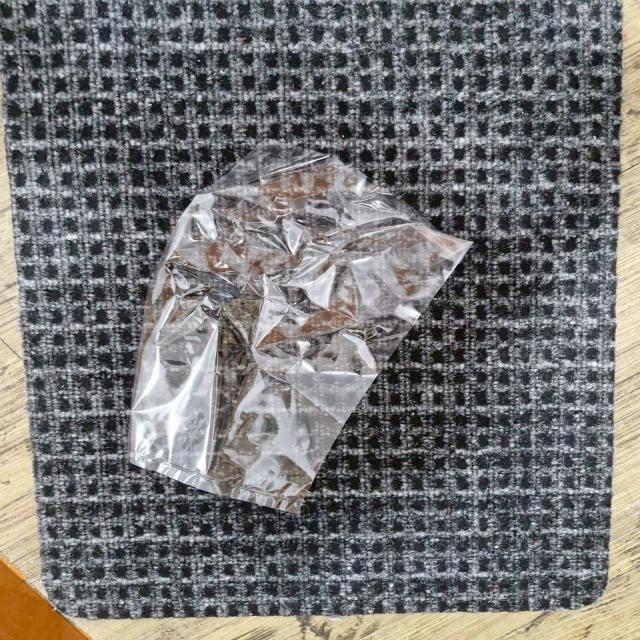plastic bag: (118, 152, 470, 508)
